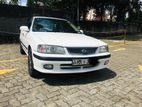car: (14, 10, 112, 87)
